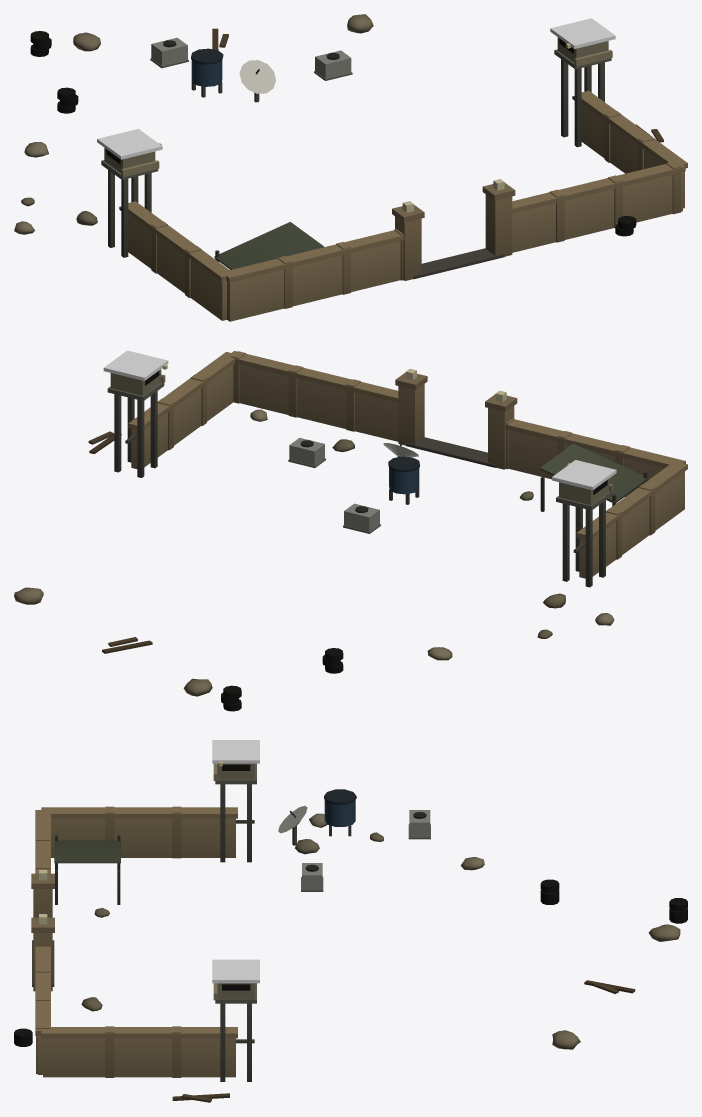
The model's file is m_barracks_a726fb06.glb.
The picture shows the model from 3 angles, top to bottom: view 1: azimuth 30°, elevation 25°; view 2: azimuth 150°, elevation 25°; view 3: azimuth 270°, elevation 25°; orthographic projection.
Parts seen in each view (by area): view 1: mesh; view 2: mesh; view 3: mesh.
Boxes of the visible parts, x1,y1,x2,y2 form: mesh: [14, 14, 687, 321]; mesh: [14, 350, 687, 711]; mesh: [14, 740, 687, 1102].
Size of the model in its own units: 90.5 by 18.43 by 90.79.
